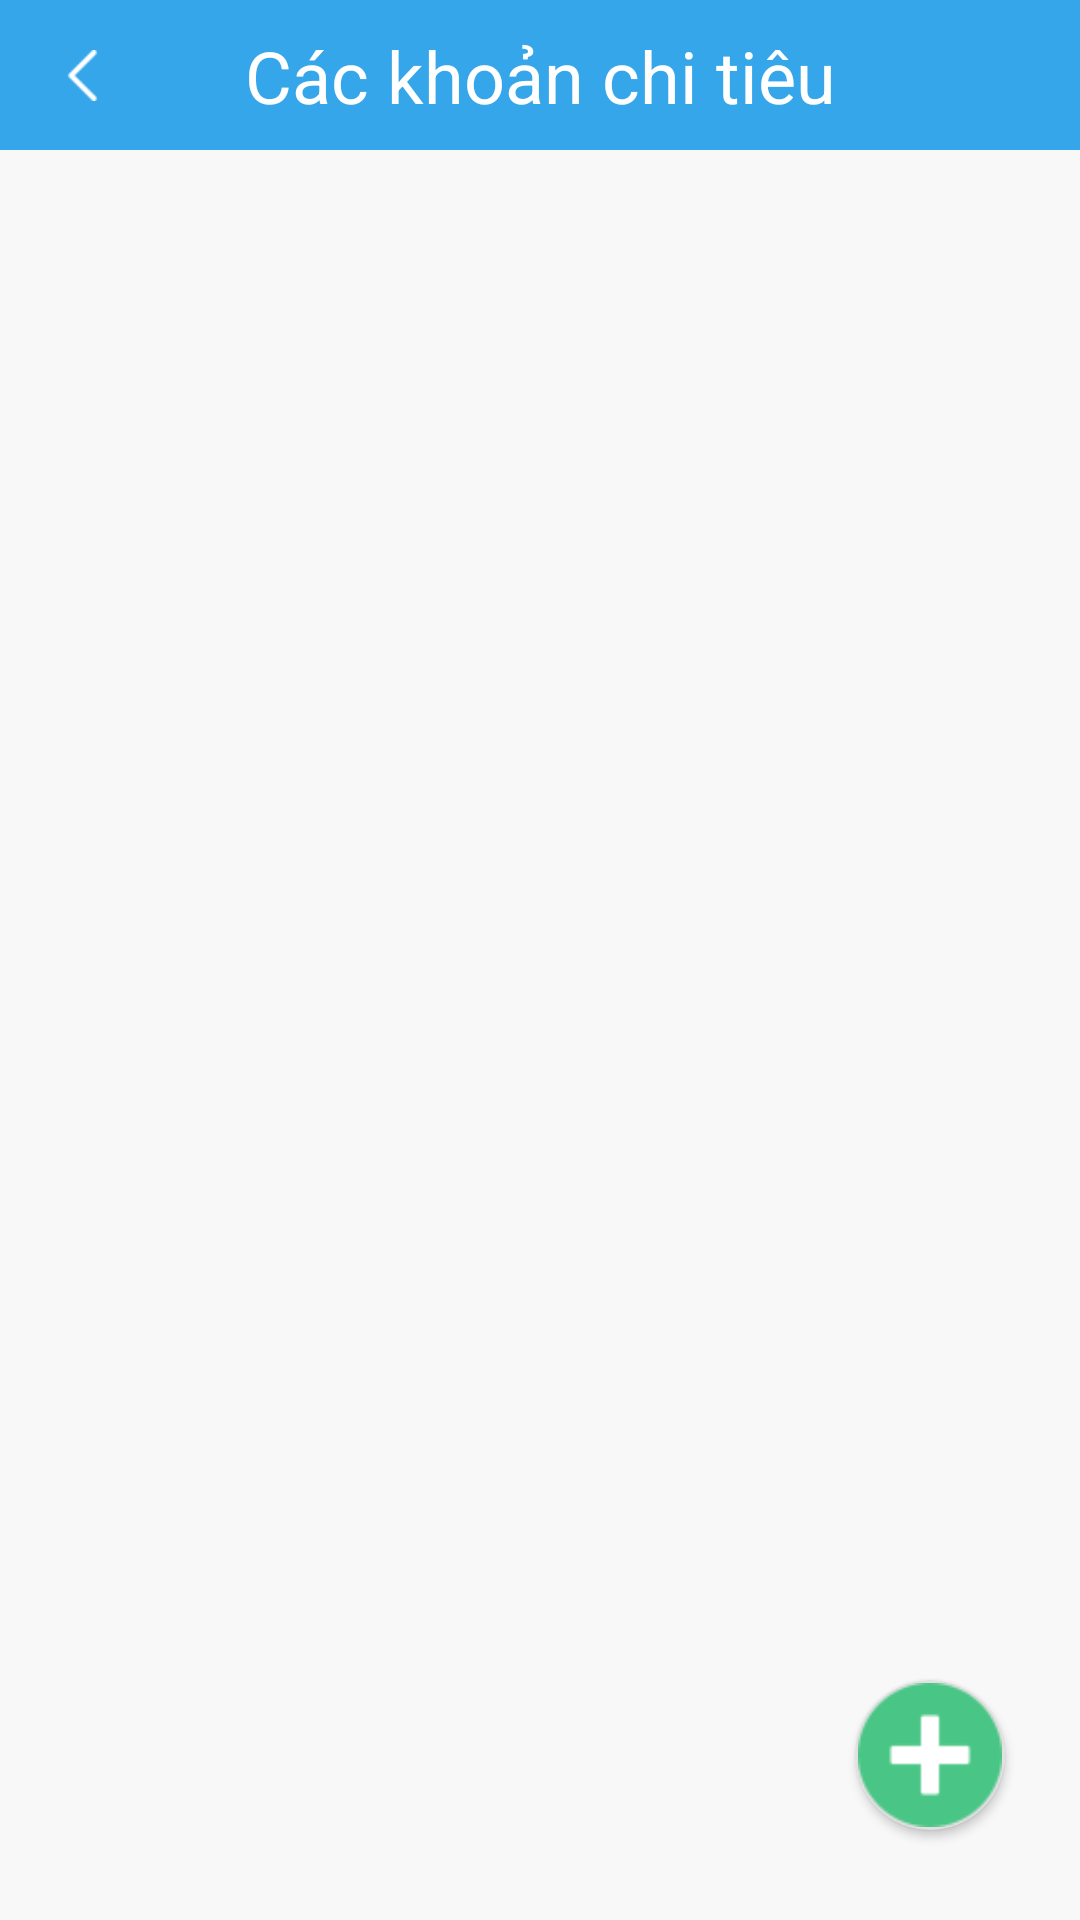

Icons on this 1080×1920 Android screen, each with its box as [x1,y1,x2,y2]:
back: [68,50,97,101]
plus: [856,1683,1005,1830]
